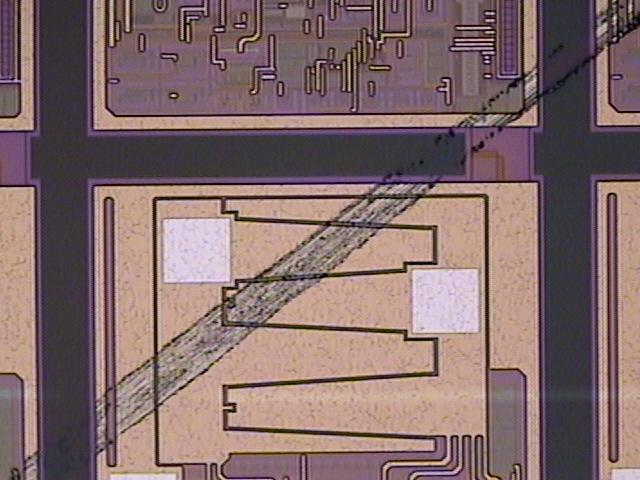SCRATCH: (2, 1, 640, 480)
